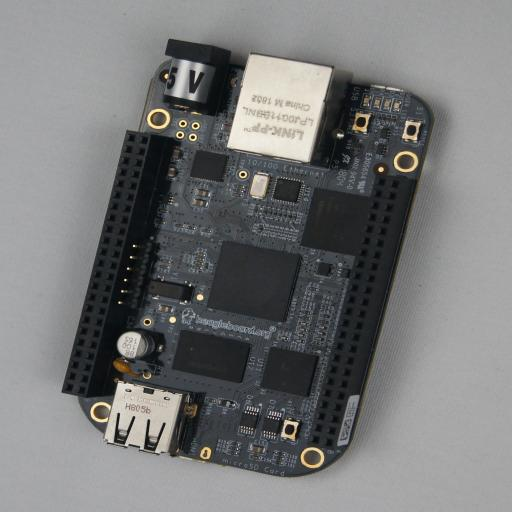Beaglebone Black: (62, 39, 444, 477)
